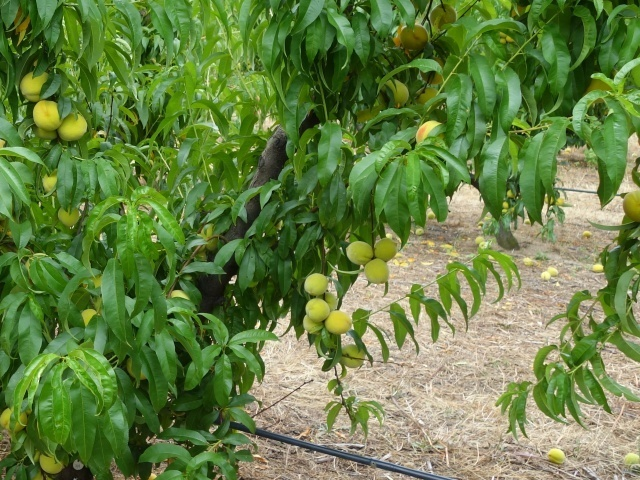peach: (18, 65, 57, 102), (30, 95, 67, 134), (56, 108, 90, 144), (1, 400, 30, 436), (345, 237, 378, 268), (414, 113, 445, 146), (400, 22, 431, 54), (365, 256, 393, 287), (385, 76, 411, 109), (324, 309, 354, 337), (373, 233, 401, 263), (339, 339, 366, 370), (35, 448, 64, 476), (305, 295, 332, 325), (431, 1, 458, 31), (302, 268, 328, 299), (56, 200, 84, 228), (413, 83, 441, 109), (620, 188, 639, 223), (303, 311, 324, 336)
